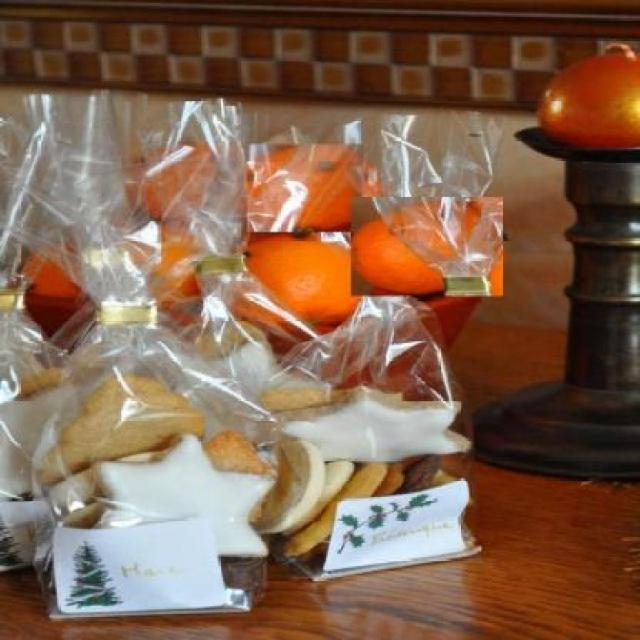Orange: (351, 196, 504, 296), (232, 230, 376, 332), (247, 144, 364, 232), (537, 50, 640, 149)
